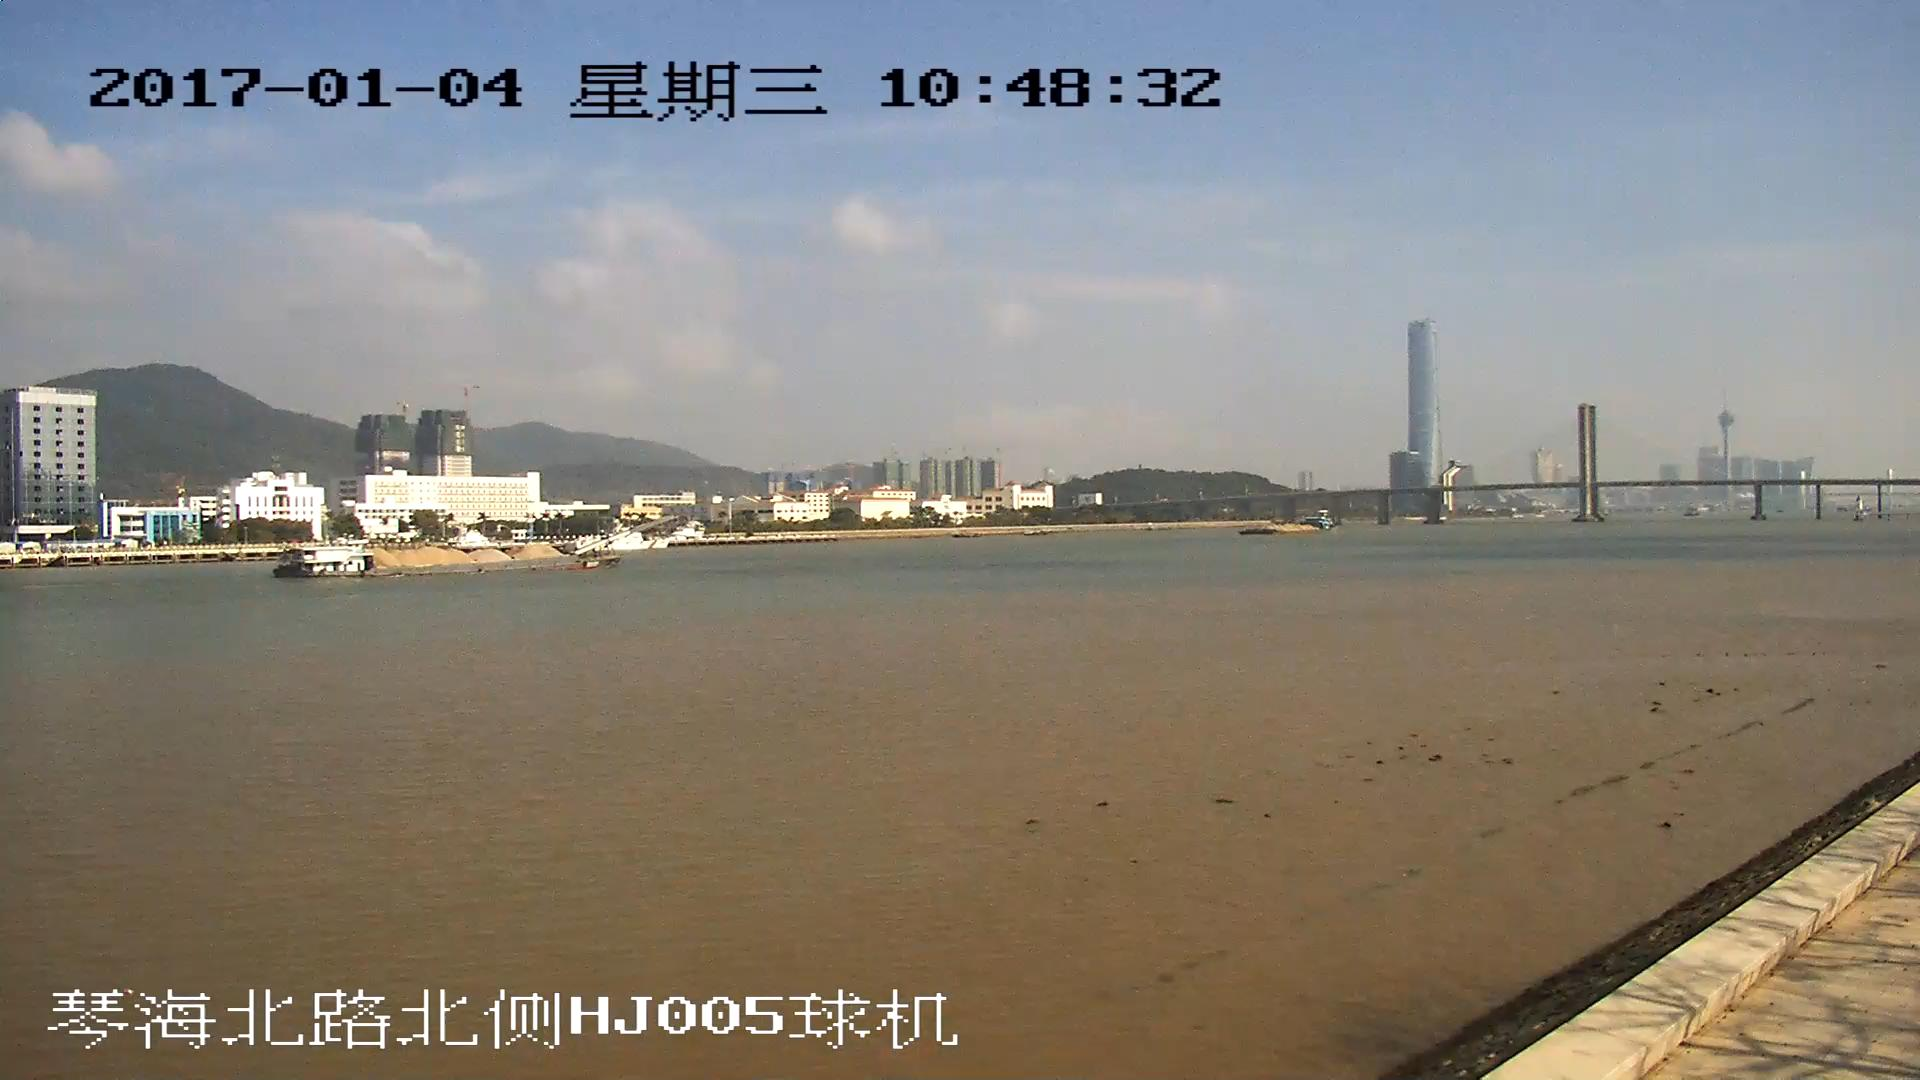ore carrier: (280, 515, 675, 580)
